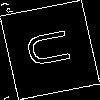U: (24, 25, 82, 70)
